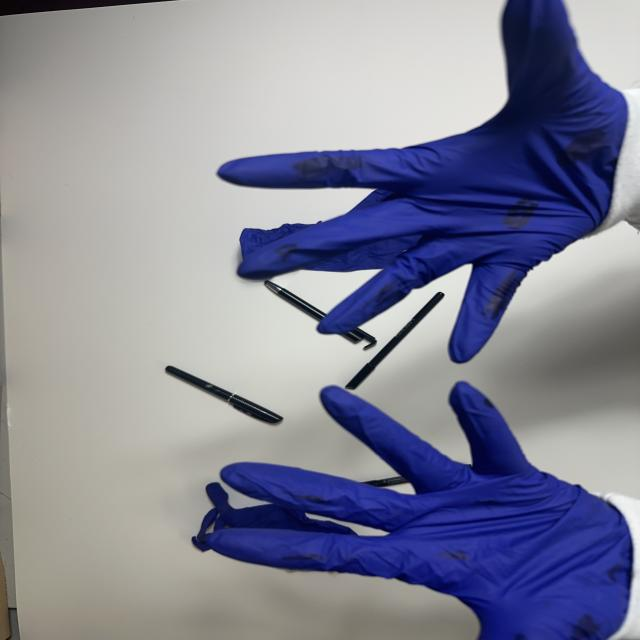gloves_contaminated: (218, 0, 628, 362), (203, 382, 632, 640)
